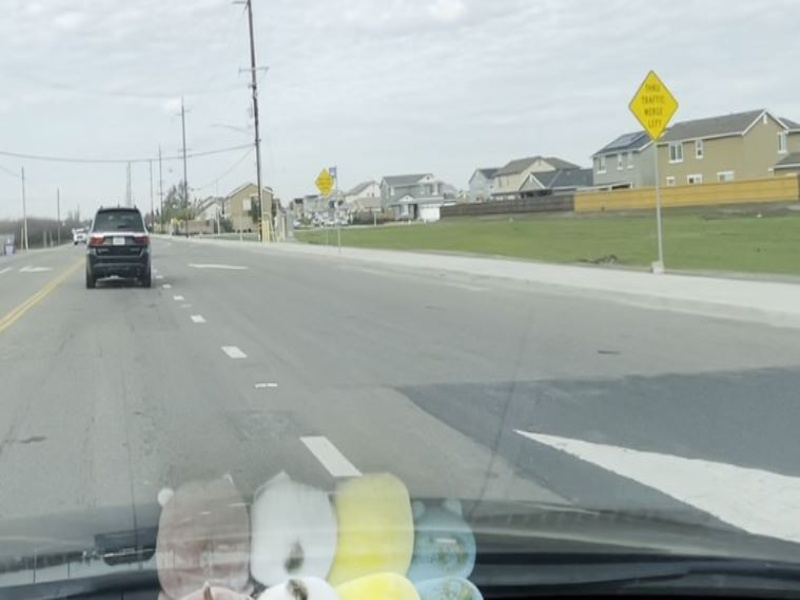merge sign: (625, 70, 680, 140), (313, 169, 336, 196)
